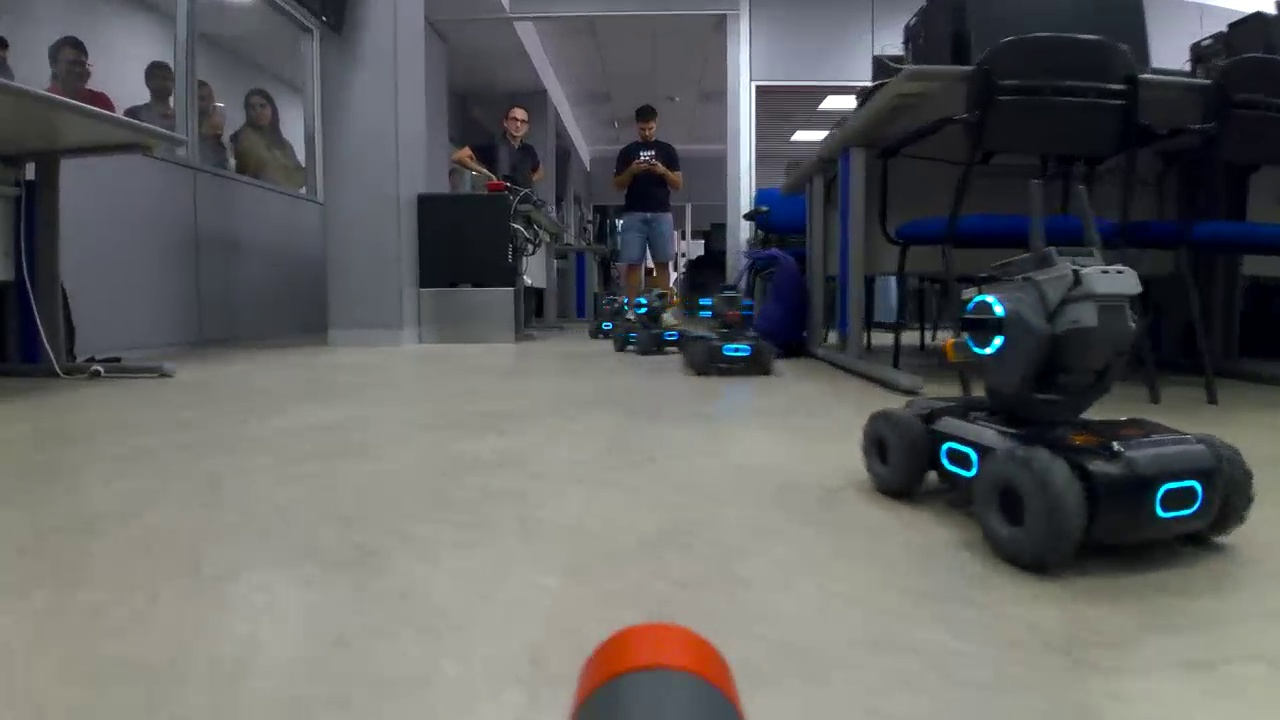robot: (854, 241, 1264, 579), (675, 282, 788, 378), (615, 285, 690, 359), (586, 291, 628, 338)
